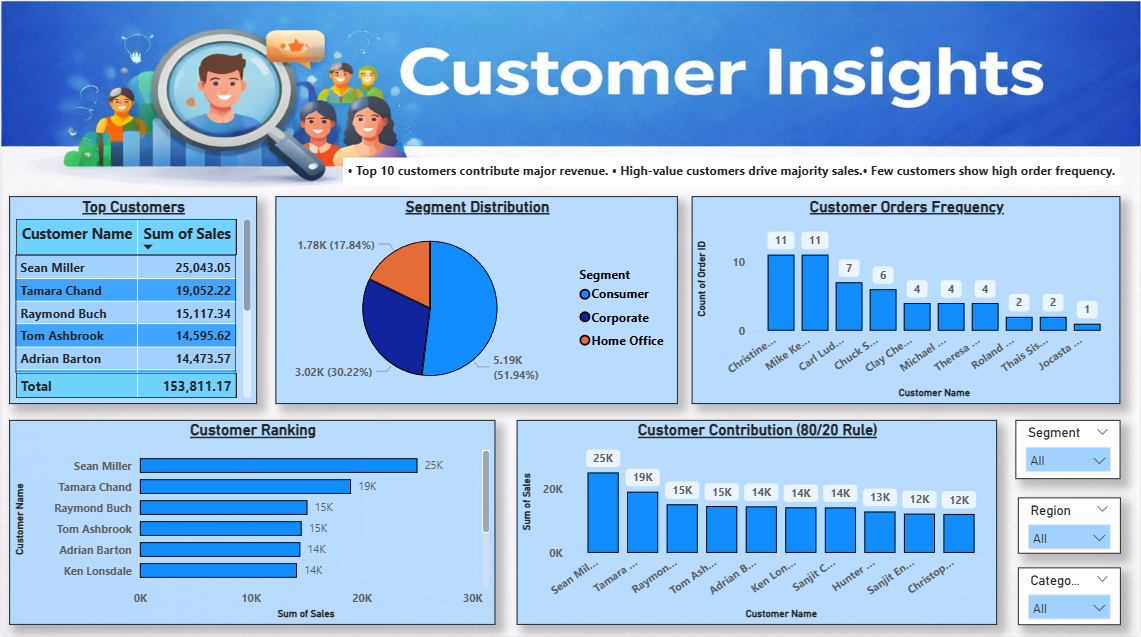

What the dashboard file says about the page in this screenshot:
{"tool":"powerbi","page":{"name":"Customer Insights","canvas":[1280,720],"ordinal":1},"visuals":[{"type":"tableEx","title":"Top Customers","fields":{"Values":["Table1.Customer Name","Sum(Table1.Sales)"]},"box":[23.3,226.4,271.7,227.8],"z":0},{"type":"barChart","title":"Customer Ranking","fields":{"Category":["Table1.Customer Name"],"Y":["Sum(Table1.Sales)"]},"box":[23.3,472,533.8,225],"z":1000},{"type":"pieChart","title":"Segment Distribution","fields":{"Category":["Table1.Segment"],"Y":["CountNonNull(Table1.Customer Name)"]},"box":[315.6,226.4,441.9,227.8],"z":2000},{"type":"lineStackedColumnComboChart","title":"Customer Contribution (80/20 Rule)","fields":{"Category":["Table1.Customer Name"],"Y":["Sum(Table1.Sales)"]},"box":[580.4,472,526.9,225],"z":3000},{"type":"lineStackedColumnComboChart","title":"Customer Orders Frequency","fields":{"Category":["Table1.Customer Name"],"Y":["CountNonNull(Table1.Order ID)"]},"box":[772.6,226.4,470.7,227.8],"z":4000},{"type":"slicer","fields":{"Values":["Table1.Segment"]},"box":[1128,472,115.3,64.5],"z":5000},{"type":"slicer","fields":{"Values":["Table1.Region"]},"box":[1130.7,557.1,112.5,61.7],"z":6000},{"type":"slicer","fields":{"Values":["Table1.Category"]},"box":[1130.7,634,112.5,63.1],"z":7000},{"type":"textbox","box":[389.7,183.9,853.5,30.2],"z":8000}]}

Visuals, with their boxes in screenshot pixels (x1, y1, x2, y2), scaled from the page's 1280x720 canvas onto the 1141x637 screenshot:
"Top Customers" tableEx: region(21, 200, 263, 402)
"Customer Ranking" barChart: region(21, 418, 497, 617)
"Segment Distribution" pieChart: region(281, 200, 675, 402)
"Customer Contribution (80/20 Rule)" lineStackedColumnComboChart: region(517, 418, 987, 617)
"Customer Orders Frequency" lineStackedColumnComboChart: region(689, 200, 1108, 402)
slicer - Table1.Segment: region(1006, 418, 1108, 475)
slicer - Table1.Region: region(1008, 493, 1108, 547)
slicer - Table1.Category: region(1008, 561, 1108, 617)
textbox: region(347, 163, 1108, 189)
